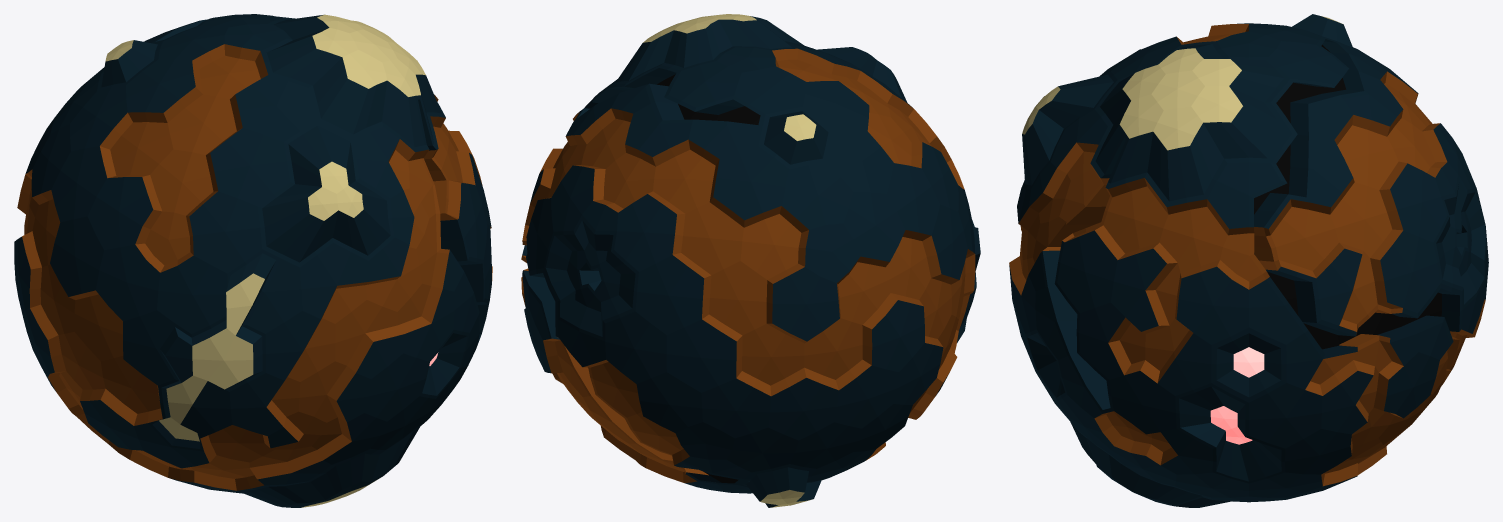
File: Planet1Dest2.glb
3 views of the same model, side by side, from view 1: azimuth 30°, elevation 25°; view 2: azimuth 150°, elevation 25°; view 3: azimuth 270°, elevation 25° (orthographic). The views are drawn at different scales.
Parts seen in each view (by area): view 1: Icosphere.020; view 2: Icosphere.020; view 3: Icosphere.020.
Part boxes in pixels (box(x1,y1,x2,y2)): Icosphere.020: box(14, 14, 492, 507); Icosphere.020: box(521, 14, 980, 507); Icosphere.020: box(1009, 14, 1488, 507).
Size of the model in its own units: 1.8 by 1.9 by 1.81.
